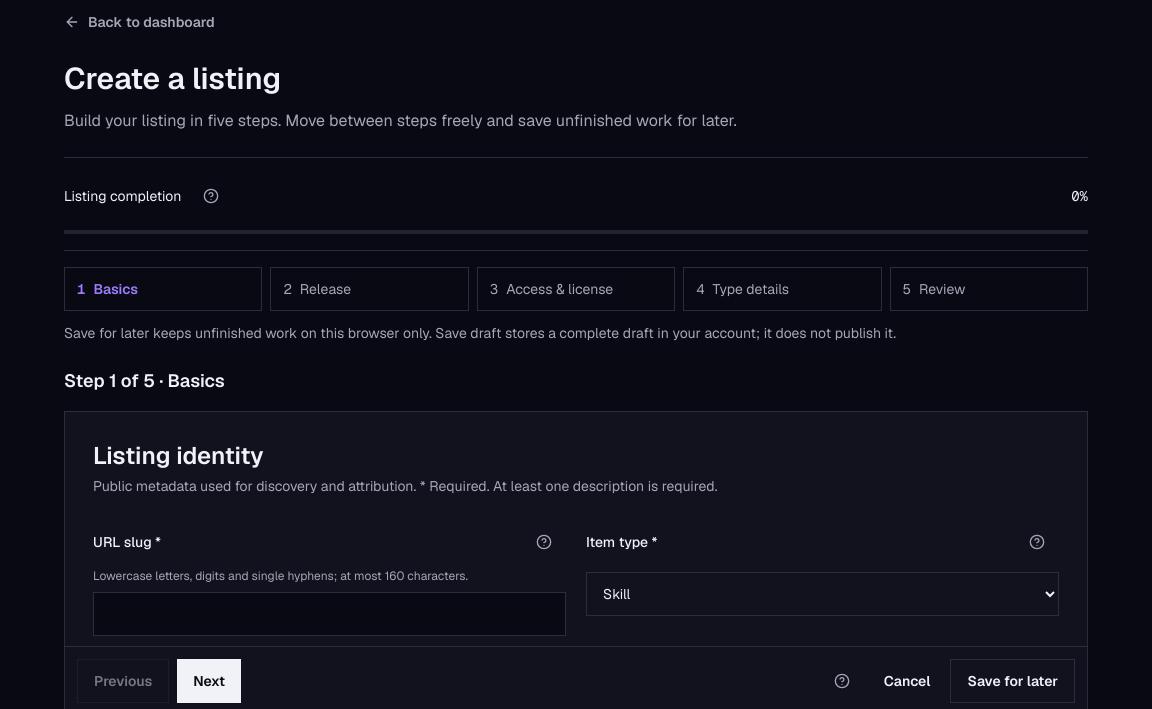
Scenario: draft editor navigation and recovery › reveals and focuses an invalid field from another step before saving
What coordinates should you click on to do the following:
click the button named "Review —"
I would click on:
 (989, 289)
Its box is [890,267,1088,311].
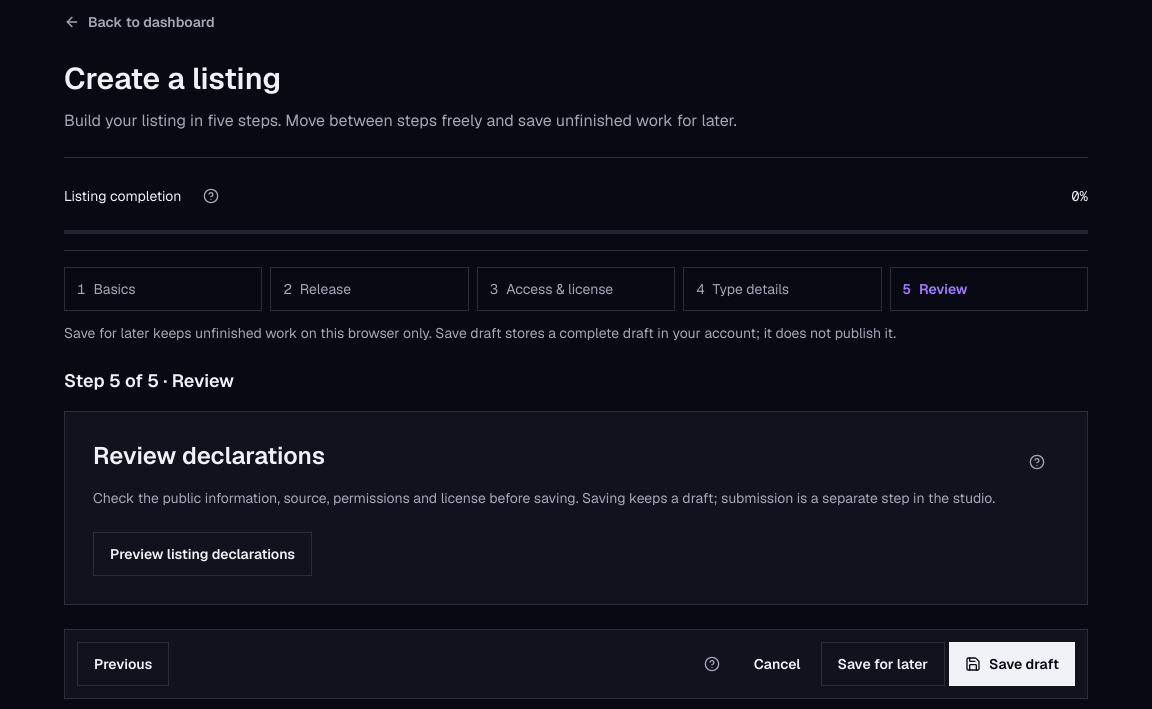
What coordinates should you click on to do the following:
click the button "Save draft"
I would click on:
 (1012, 664)
Its box is [949,642,1075,686].
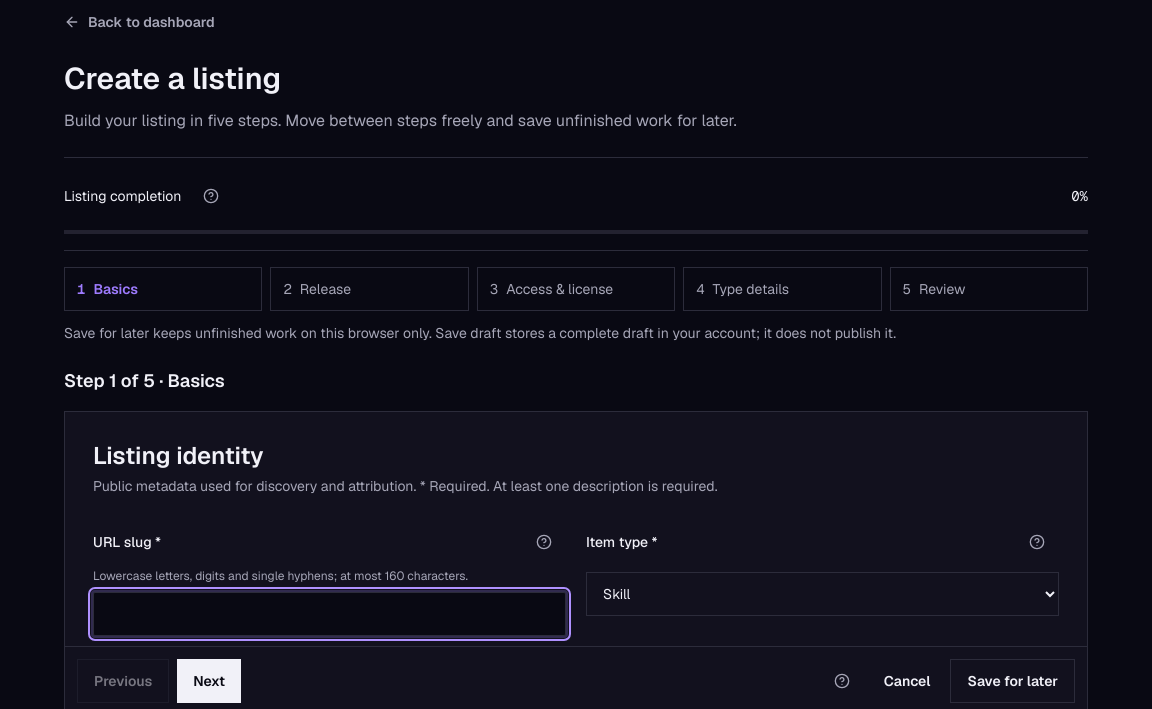
Now the field labelled "URL slug" is shown, box [93,592,566,636]
